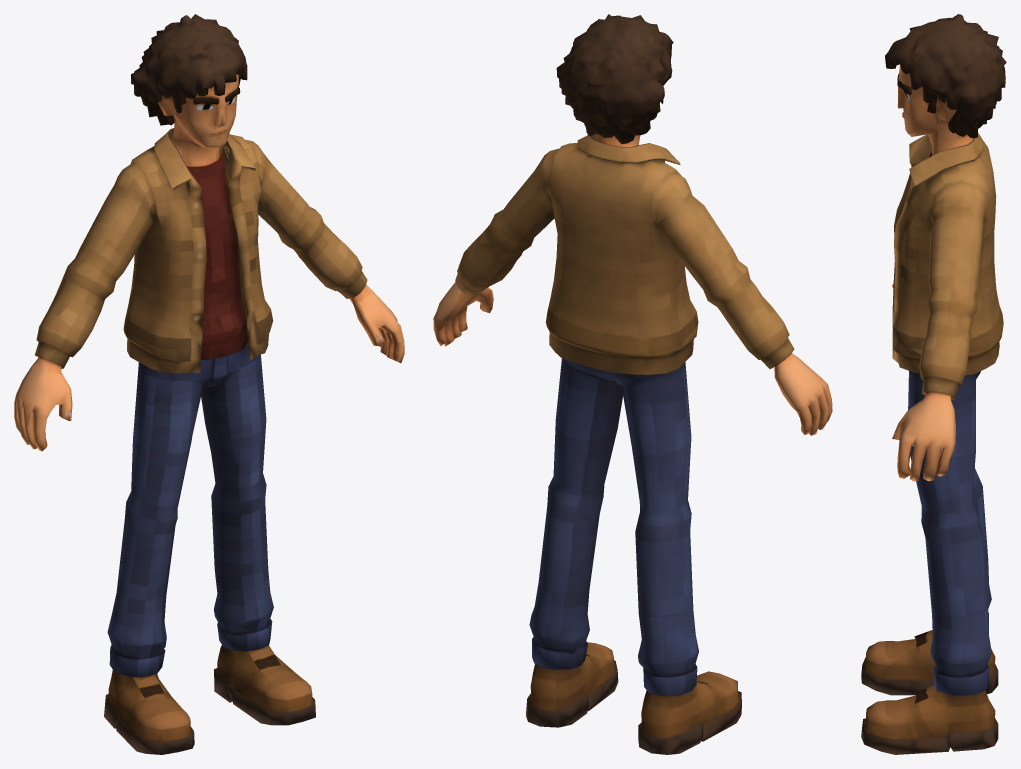
File: tan_jacket.glb
3 views of the same model, side by side, from view 1: azimuth 30°, elevation 25°; view 2: azimuth 150°, elevation 25°; view 3: azimuth 270°, elevation 25° (orthographic).
Parts seen in each view (by area): view 1: geometry_0; view 2: geometry_0; view 3: geometry_0.
Part boxes in pixels (left/top/right/bottom): geometry_0: left=14, top=14, right=404, bottom=754; geometry_0: left=433, top=14, right=832, bottom=754; geometry_0: left=861, top=14, right=1006, bottom=754.
Size of the model in its own units: 0.54 by 0.9517 by 0.1807.
1 material, 1 textured.
